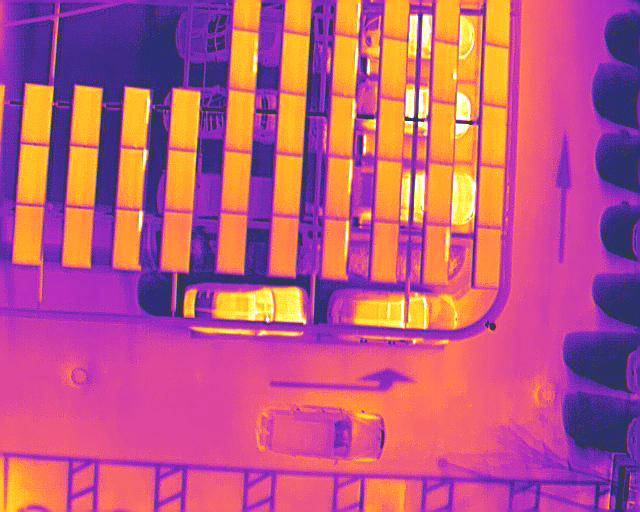Cell: (433, 42, 458, 104)
No-Anomaly: (67, 146, 98, 208), (161, 212, 192, 272), (64, 207, 94, 269), (221, 153, 251, 214), (22, 86, 52, 146), (18, 145, 47, 207), (166, 150, 195, 211), (226, 90, 254, 153), (477, 166, 505, 229), (170, 91, 200, 149), (217, 214, 246, 273), (73, 88, 101, 147), (283, 31, 308, 96), (270, 217, 297, 277), (375, 160, 401, 222), (372, 223, 399, 282), (16, 205, 43, 264), (427, 163, 452, 226), (379, 99, 404, 162), (382, 38, 407, 100), (276, 154, 300, 217), (280, 93, 304, 156), (431, 102, 455, 165), (476, 227, 500, 289), (484, 45, 508, 106), (482, 107, 505, 168)
Unclassified: (117, 148, 147, 209), (113, 209, 143, 269), (229, 31, 258, 92), (122, 88, 150, 148), (423, 225, 450, 284), (327, 157, 353, 218), (331, 97, 357, 157), (324, 219, 349, 279), (334, 37, 358, 97)
